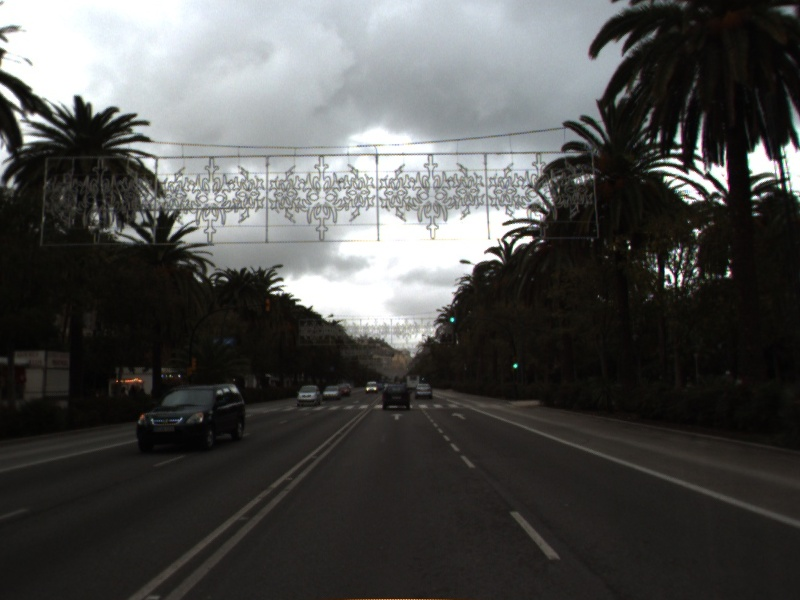STRAIGHT: (448, 410, 469, 421), (389, 411, 406, 422)
